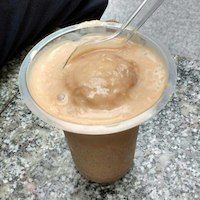jigirthanda: (22, 19, 152, 182)
